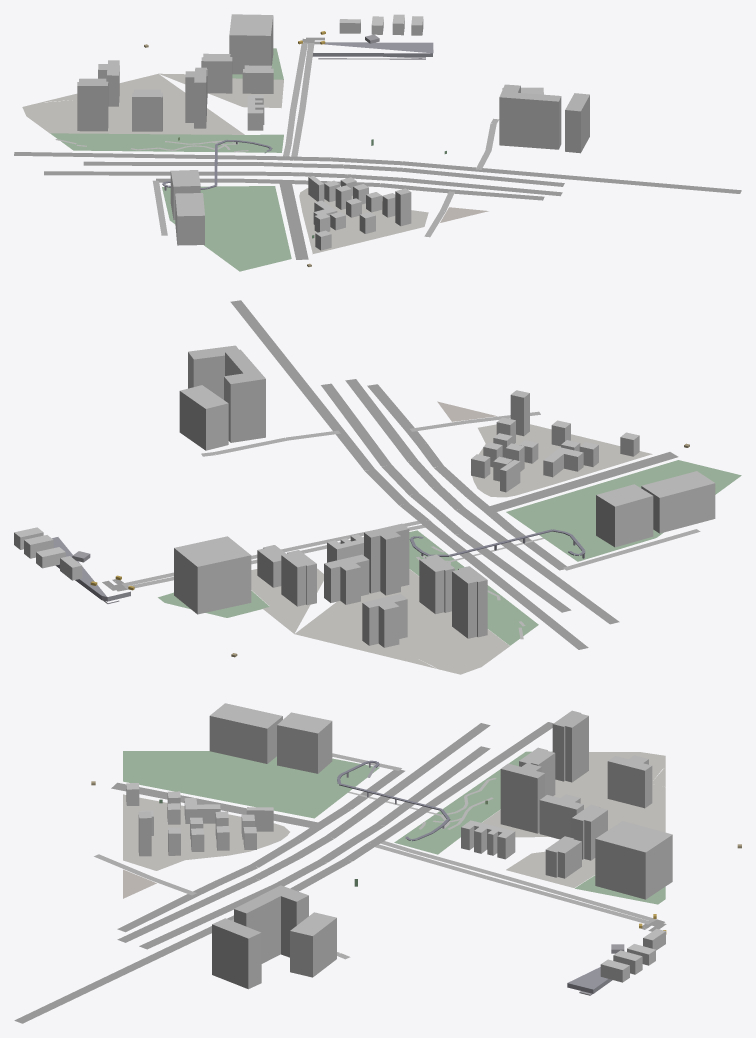
3 views of the same model, one above another, from view 1: azimuth 30°, elevation 25°; view 2: azimuth 150°, elevation 25°; view 3: azimuth 270°, elevation 25° (orthographic). The views are drawn at different scales.
Bounding box in the file's own units: 658 × 79.73 × 671.
